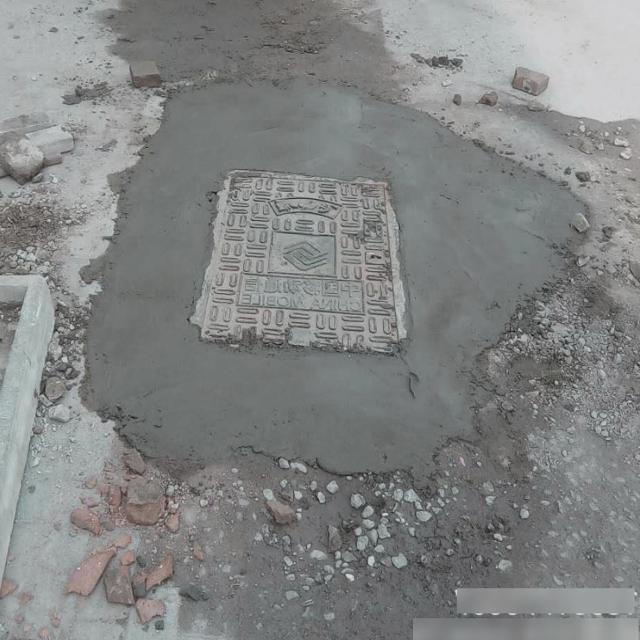good: (195, 169, 409, 359)
